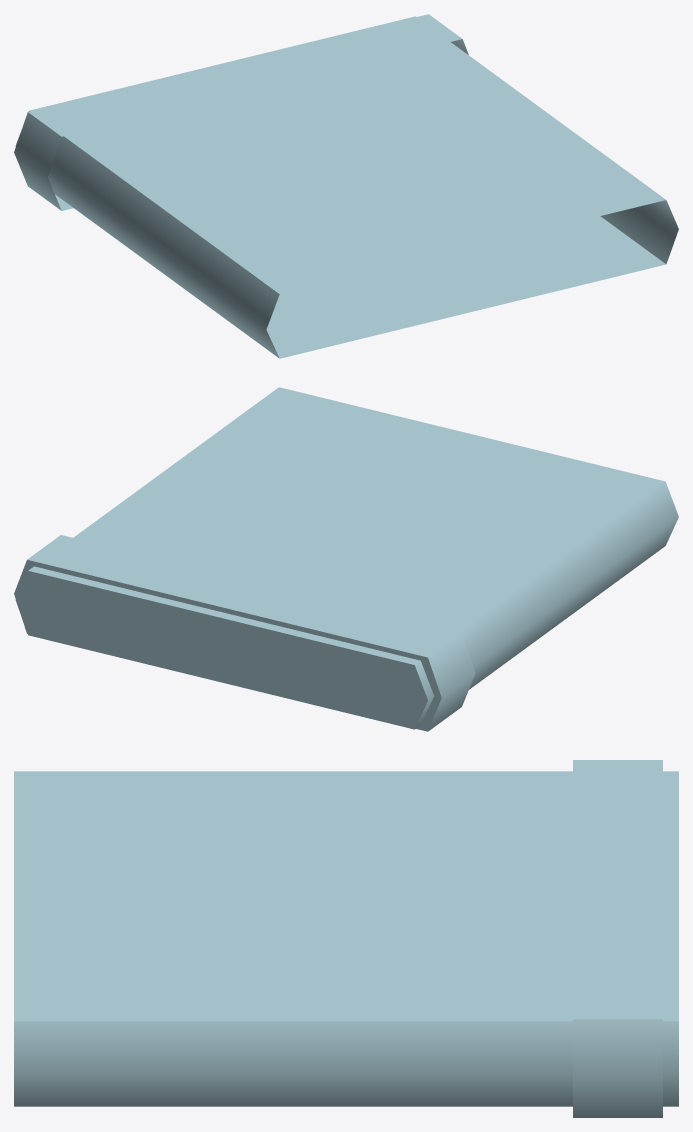
The picture shows the model from 3 angles, top to bottom: view 1: azimuth 30°, elevation 25°; view 2: azimuth 150°, elevation 25°; view 3: azimuth 270°, elevation 25°; orthographic projection. The views are drawn at different scales.
Visible parts, largest first — view 1: Object01; view 2: Object01; view 3: Object01.
Boxes of the visible parts, <box> form: Object01: <box>14,14,678,358</box>; Object01: <box>14,387,678,731</box>; Object01: <box>14,760,678,1117</box>.
Size of the model in its own units: 30393 by 5042 by 30869.
